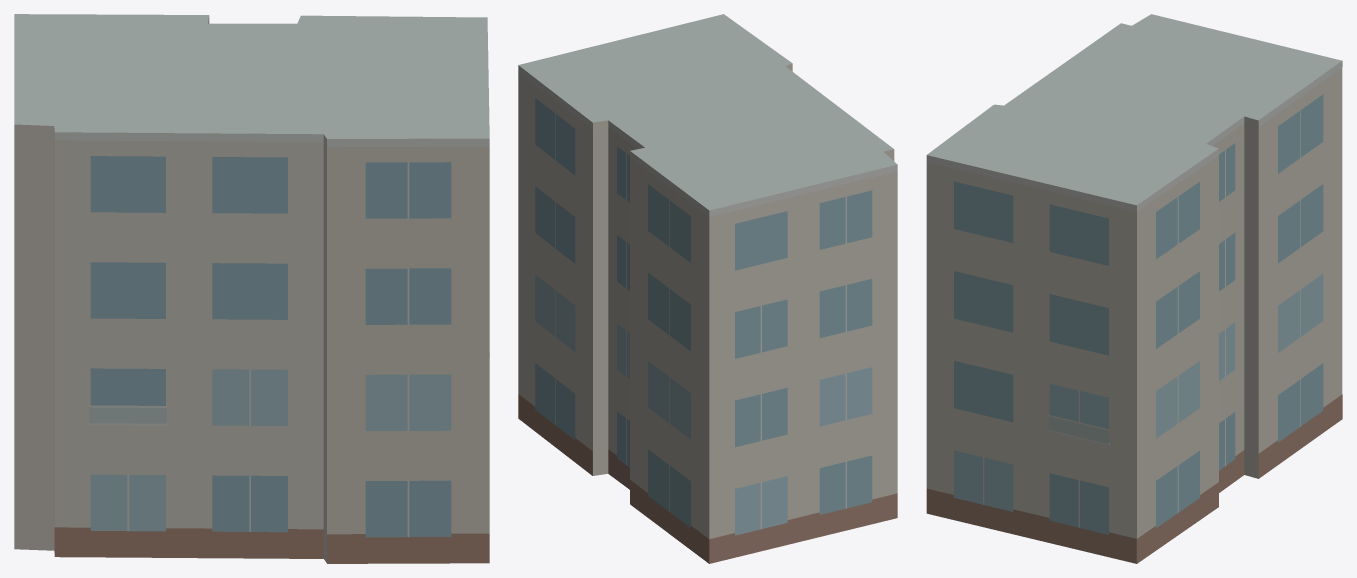
The model's file is survey-upis-32654293.glb.
3 views of the same model, side by side, from view 1: azimuth 30°, elevation 25°; view 2: azimuth 150°, elevation 25°; view 3: azimuth 270°, elevation 25° (orthographic). The views are drawn at different scales.
Parts seen in each view (by area): view 1: survey-upis-32654293.tmp; view 2: survey-upis-32654293.tmp; view 3: survey-upis-32654293.tmp.
Boxes of the visible parts, left/top/right/bottom form: survey-upis-32654293.tmp: left=14, top=14, right=489, bottom=563; survey-upis-32654293.tmp: left=518, top=14, right=897, bottom=563; survey-upis-32654293.tmp: left=926, top=14, right=1342, bottom=563.
Bounding box in the file's own units: 14.66 × 12.8 × 13.46.
